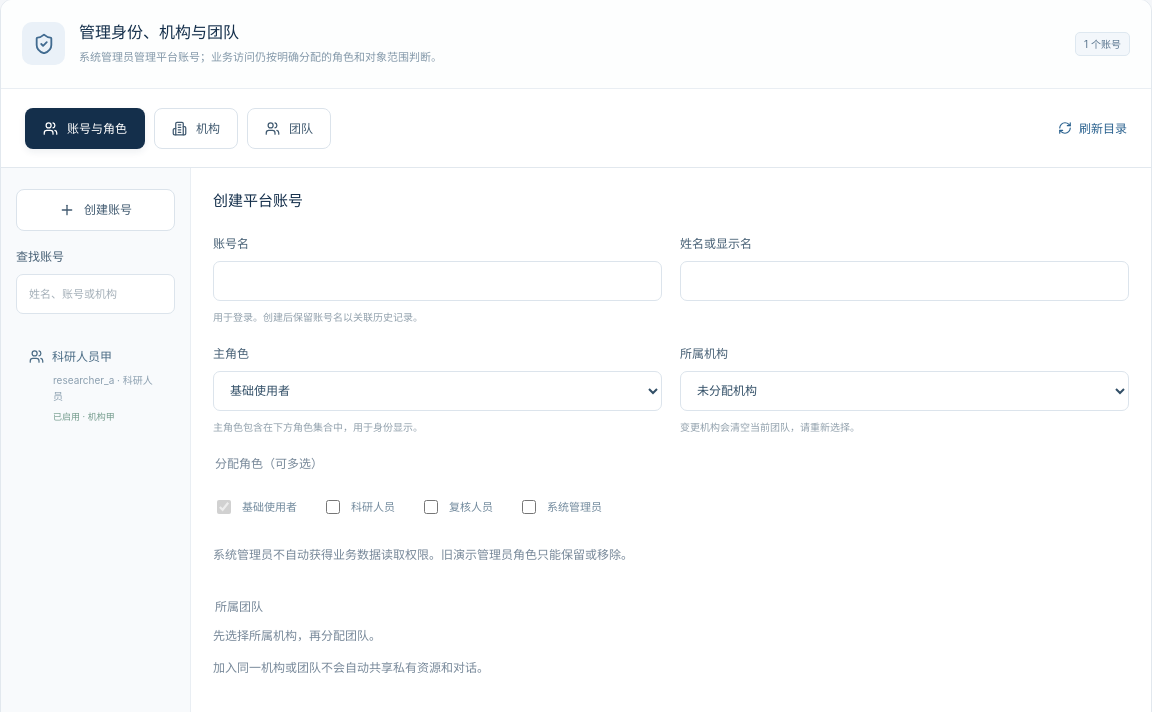
身份管理操作 › 遇到并发更新时保留输入，明确刷新后使用新修订号
Click the button "科研人员甲 researcher_a · 科研人员 已启用 · 机构甲" at (96, 386), box [16,332,175,440]
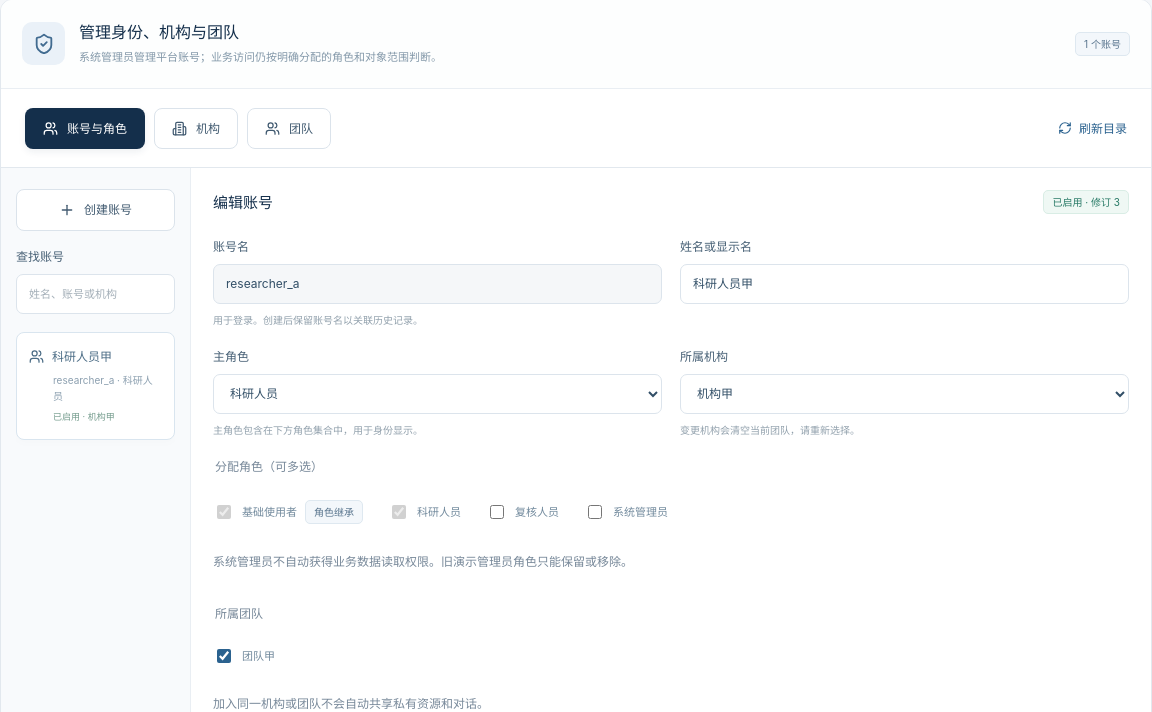
Replace the text in the field labelled "姓名或显示名" with "未保存的新名字" at (904, 284), box [680,264,1129,304]
(page scrolled)
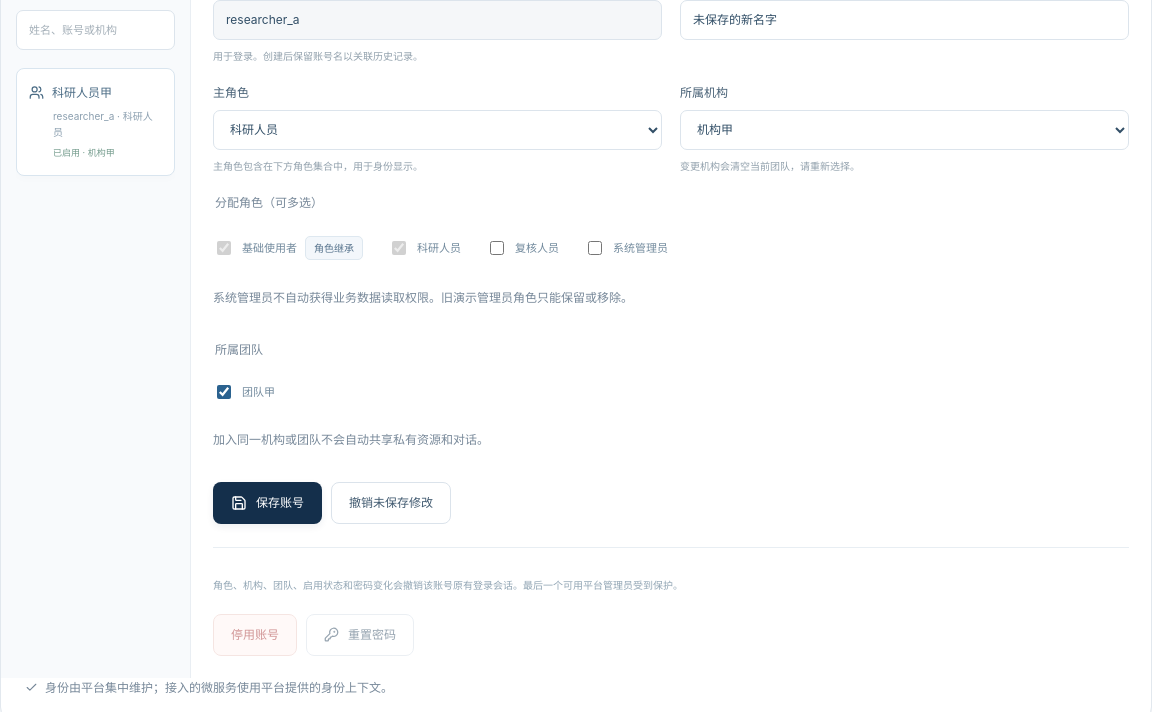
Click the button "保存账号" at (268, 503), box [213,482,322,524]
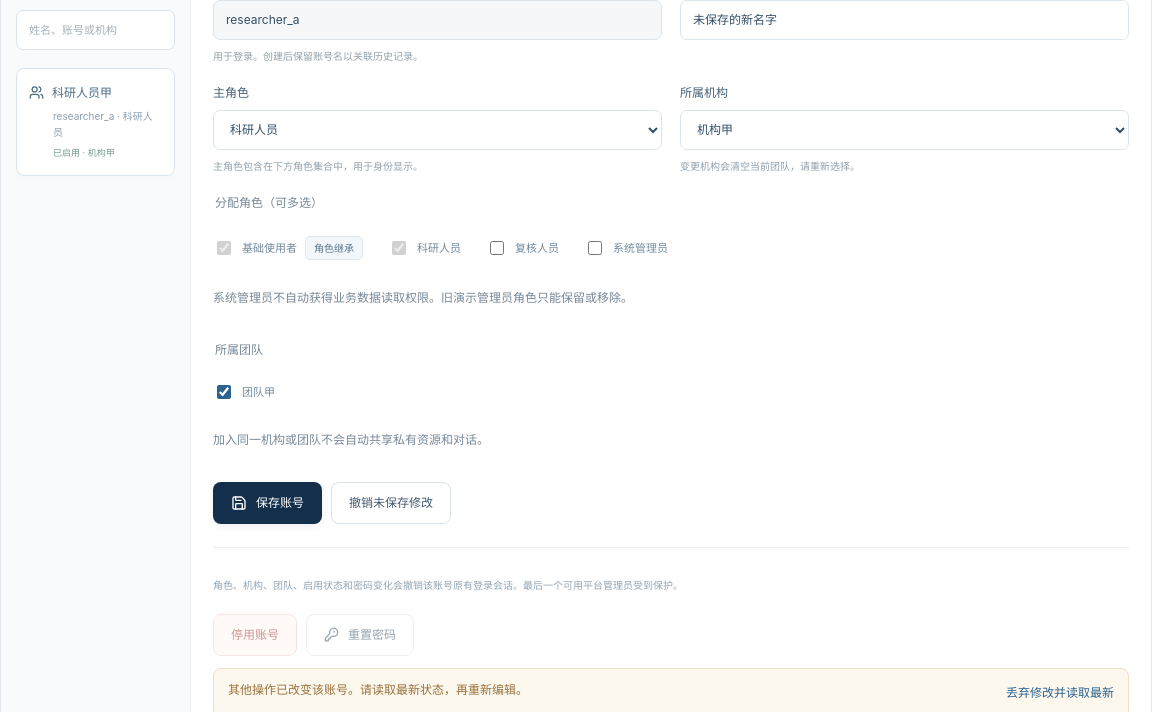
Click the button "丢弃修改并读取最新" at (1060, 693), box [1006,680,1114,706]
(page scrolled)
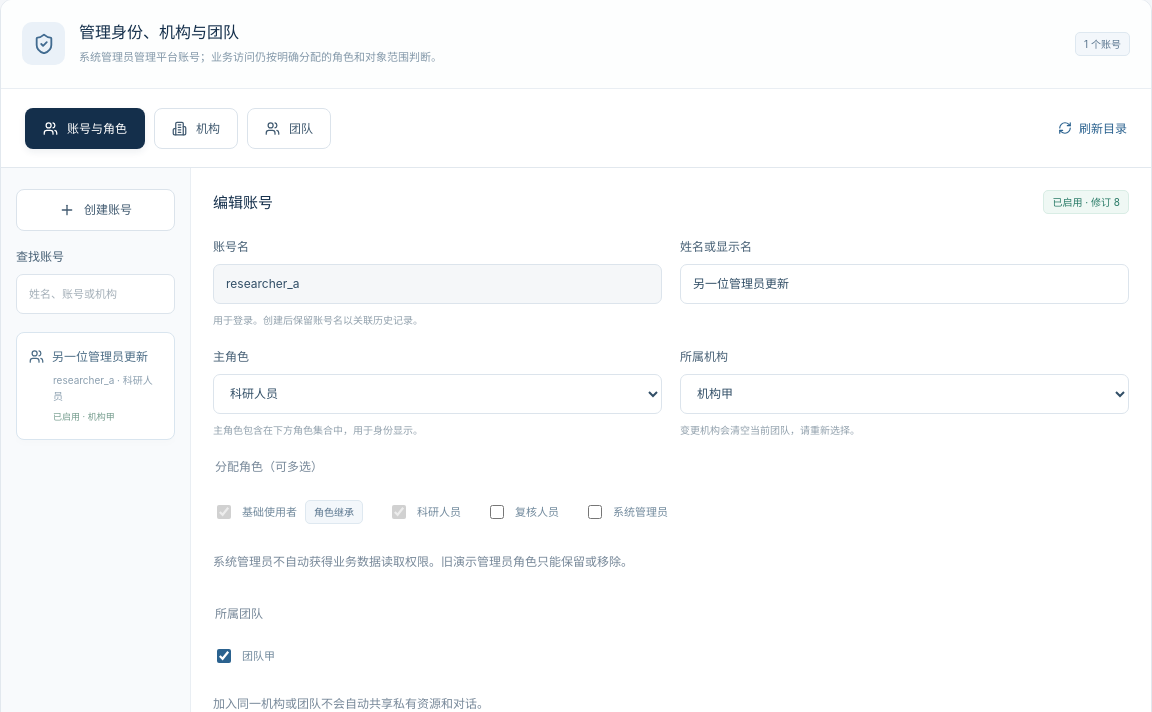
expect the field labelled "姓名或显示名" holds "另一位管理员更新": met, box [680,264,1129,304]
expect the text "已启用 · 修订 8" is shown: met, box [1044,190,1129,214]
